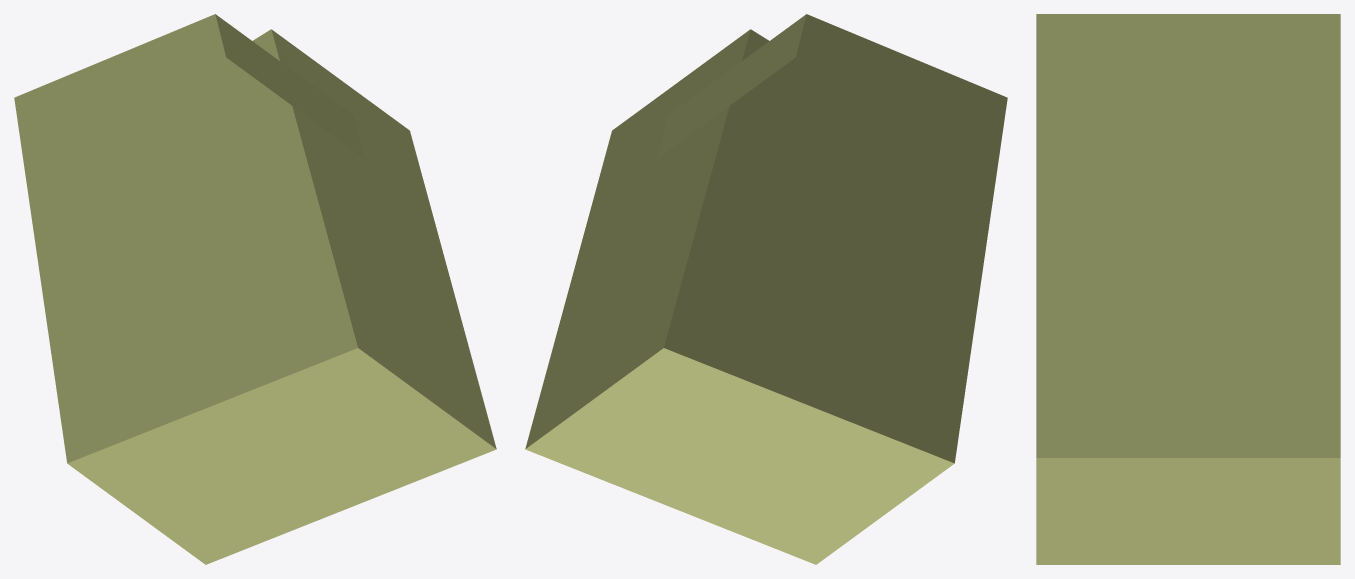
3 renders of one model, left to right at view 1: azimuth 30°, elevation 25°; view 2: azimuth 150°, elevation 25°; view 3: azimuth 270°, elevation 25°, orthographic. The views are drawn at different scales.
Visible parts, largest first — view 1: 0_1_0_2_0_0_2_1_1_3_2; view 2: 0_1_0_2_0_0_2_1_1_3_2; view 3: 0_1_0_2_0_0_2_1_1_3_2.
Boxes of the visible parts, bbox=[...] form: 0_1_0_2_0_0_2_1_1_3_2: bbox=[14, 14, 496, 564]; 0_1_0_2_0_0_2_1_1_3_2: bbox=[525, 14, 1007, 564]; 0_1_0_2_0_0_2_1_1_3_2: bbox=[1036, 14, 1340, 564].
Bounding box in the file's own units: 8.6 × 9.87 × 6.
